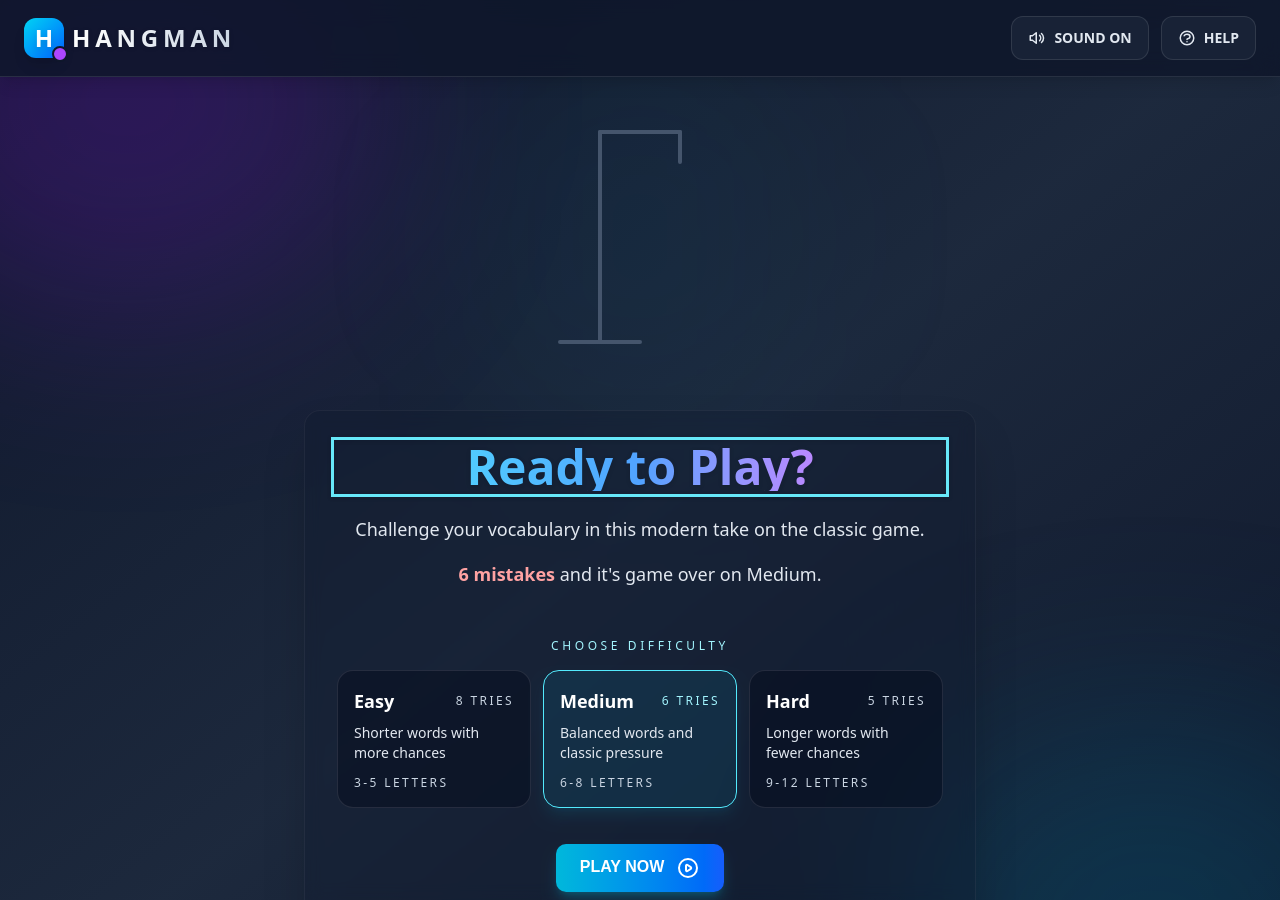
lets players switch difficulty before starting and updates the allowed mistakes copy
Step 1. Click the button "Hard 5 tries Longer words with fewer chances 9-12 letters" → (846, 738), box x1=749 y1=670 x2=943 y2=808
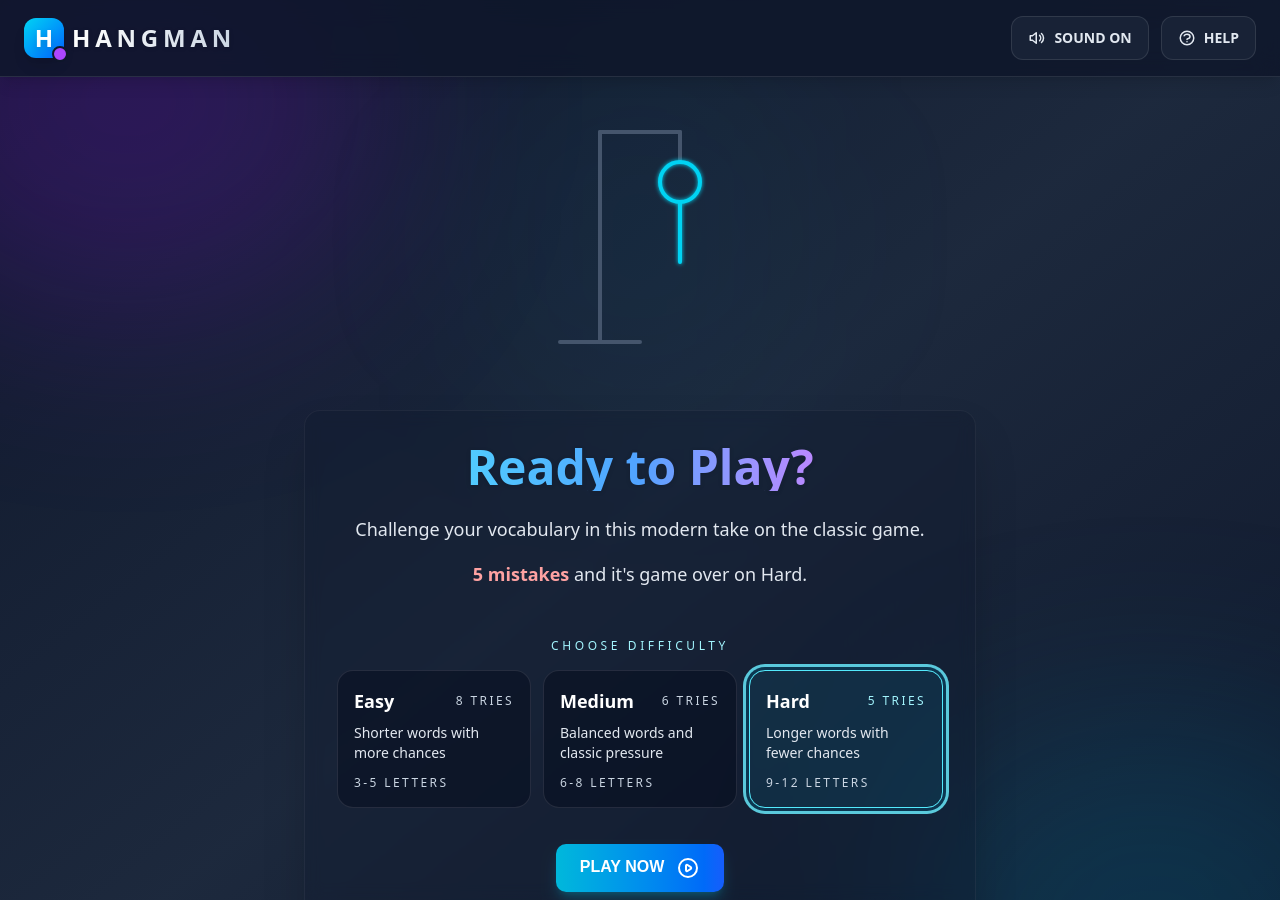
Expected: the text "5 mistakes" is shown, x1=473 y1=562 x2=569 y2=586
